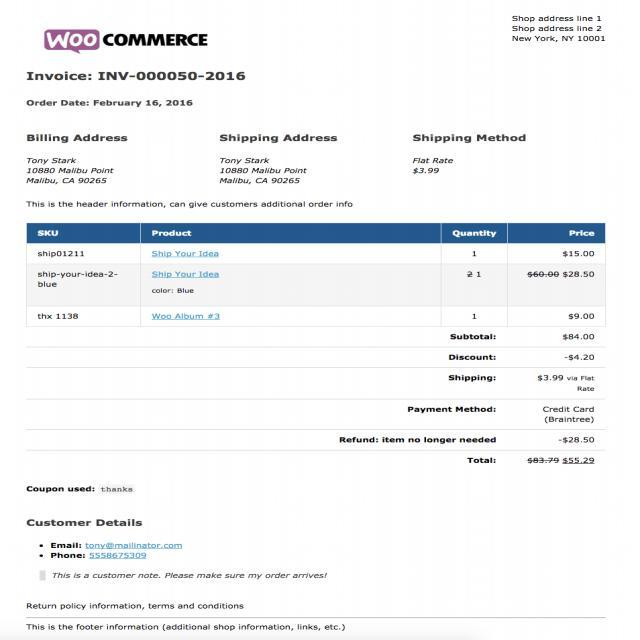customer_address: (24, 164, 119, 190), (218, 165, 313, 187)
customer_name: (218, 152, 271, 166), (25, 154, 81, 166)
invoice_date: (92, 96, 198, 112)
invoice_number: (95, 68, 252, 84)
invoice_subtotal: (553, 330, 598, 345)
invoice_total: (522, 452, 598, 468)
item_description: (143, 245, 238, 326)
item_quantity: (452, 249, 490, 324)
item_total_price: (524, 245, 599, 324)
supplier_address: (508, 10, 611, 48)
supplier_name: (34, 14, 229, 60)
